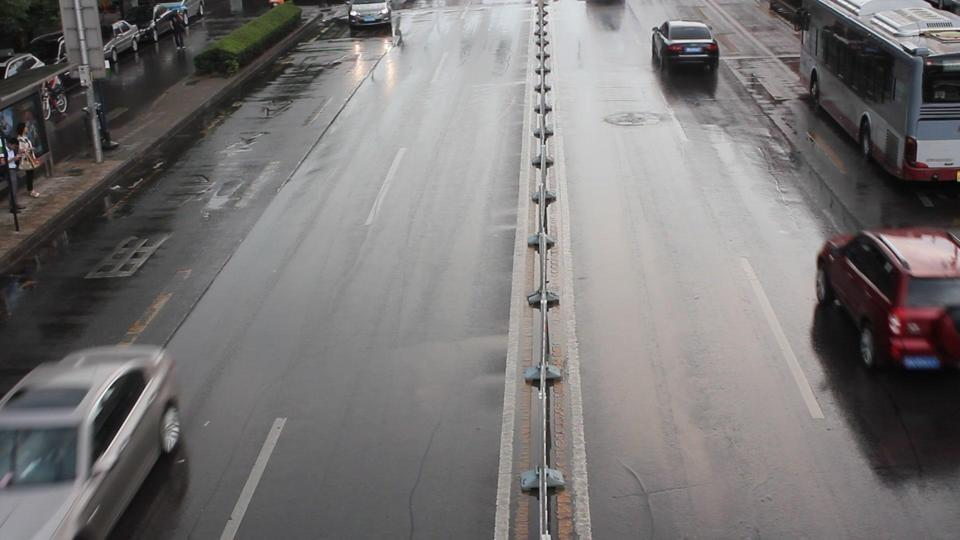car: (0, 345, 185, 537), (814, 226, 960, 376), (651, 20, 719, 72), (348, 0, 392, 33)
